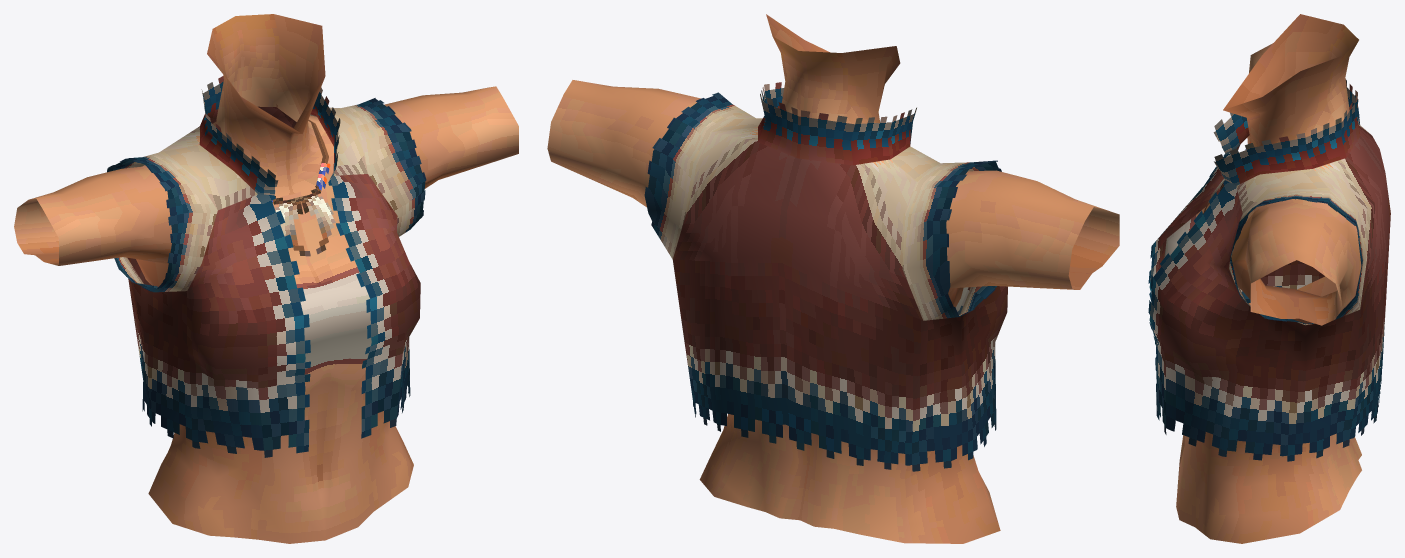
3 views of the same model, side by side, from view 1: azimuth 30°, elevation 25°; view 2: azimuth 150°, elevation 25°; view 3: azimuth 270°, elevation 25° (orthographic). The views are drawn at different scales.
Parts seen in each view (by area): view 1: mesh00; view 2: mesh00; view 3: mesh00.
Boxes of the visible parts, left/top/right/bottom form: mesh00: left=14, top=14, right=518, bottom=543; mesh00: left=547, top=14, right=1119, bottom=543; mesh00: left=1148, top=14, right=1390, bottom=543.
Size of the model in its own units: 61.81 by 58.89 by 27.76.
